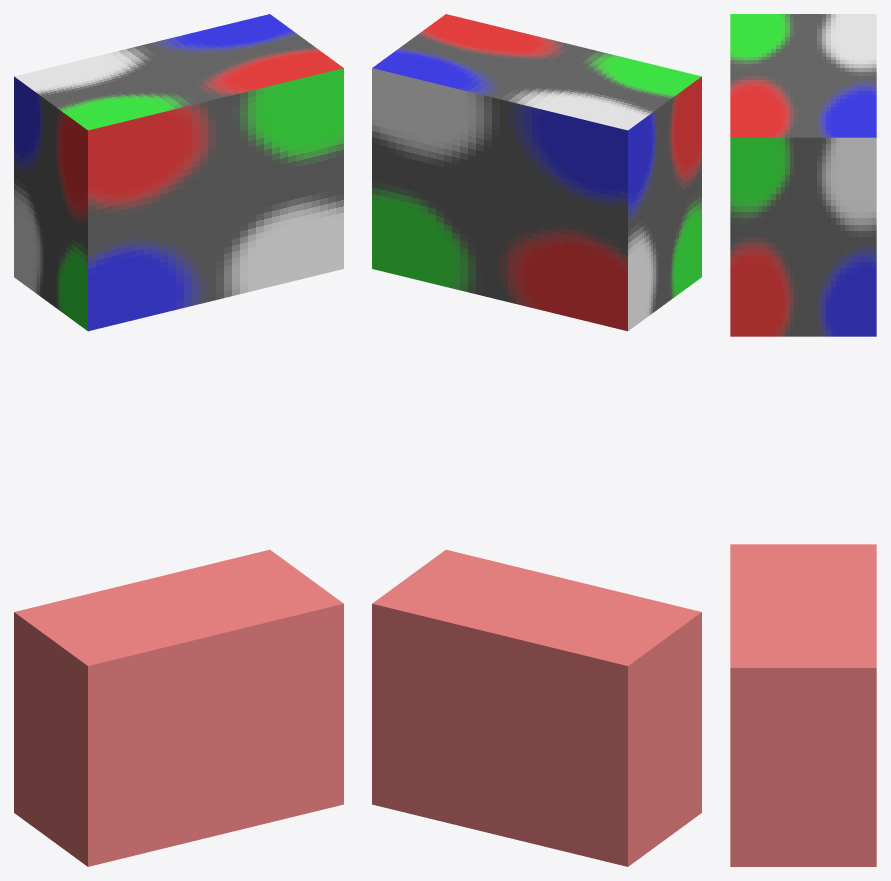
The model's file is one_rgba_one_texture_boxes.gltf.
The picture shows the model from 3 angles, left to right: view 1: azimuth 30°, elevation 25°; view 2: azimuth 150°, elevation 25°; view 3: azimuth 270°, elevation 25°; orthographic projection.
Visible parts, largest first — view 1: Renderer Node; view 2: Renderer Node; view 3: Renderer Node.
Part boxes in pixels (x1,y1,x2,y2): Renderer Node: (14,14,343,866); Renderer Node: (372,14,701,866); Renderer Node: (730,14,876,866).
Bounding box in the file's own units: 0.1 × 0.275 × 0.05.
Materials: 2 (1 with a texture image).
